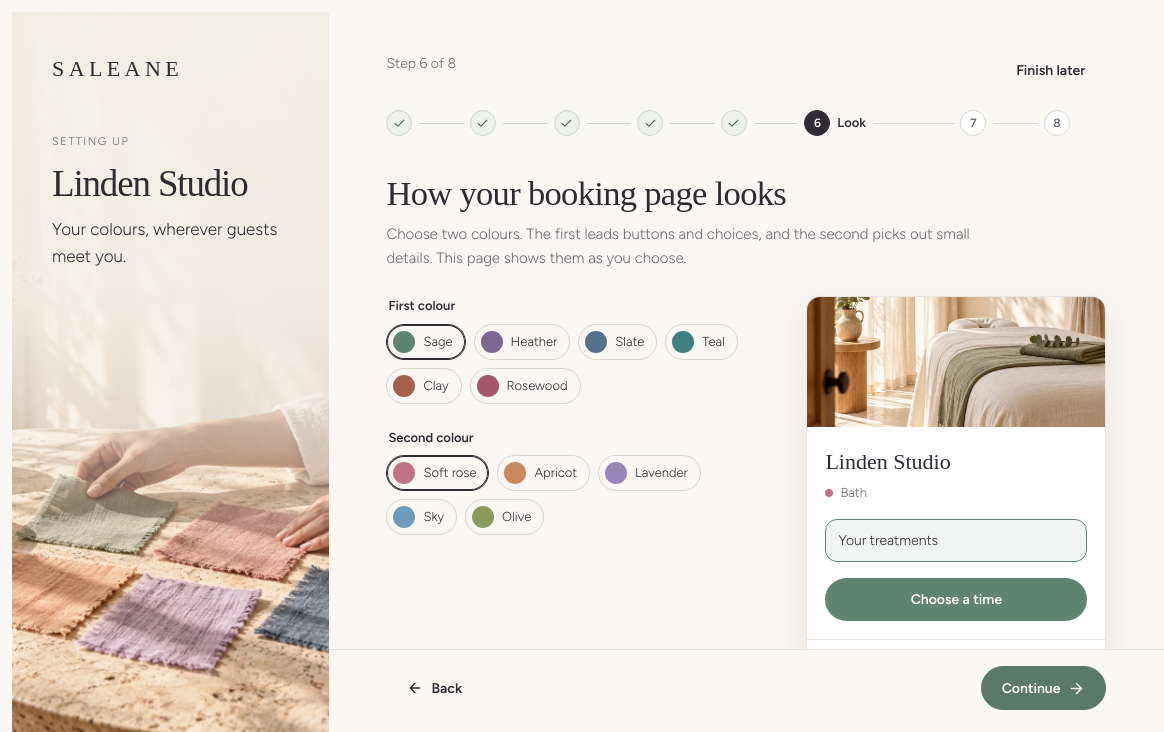
Set up your studio › picks up where the owner left off, and Back never loses a saved screen
Expected: the heading reads "How your booking page looks", [386, 174, 786, 212]
Expected: the text "Step 6 of 8" is shown, [386, 53, 456, 75]
Click the button "Back".
click(435, 688)  # box [386, 666, 483, 710]
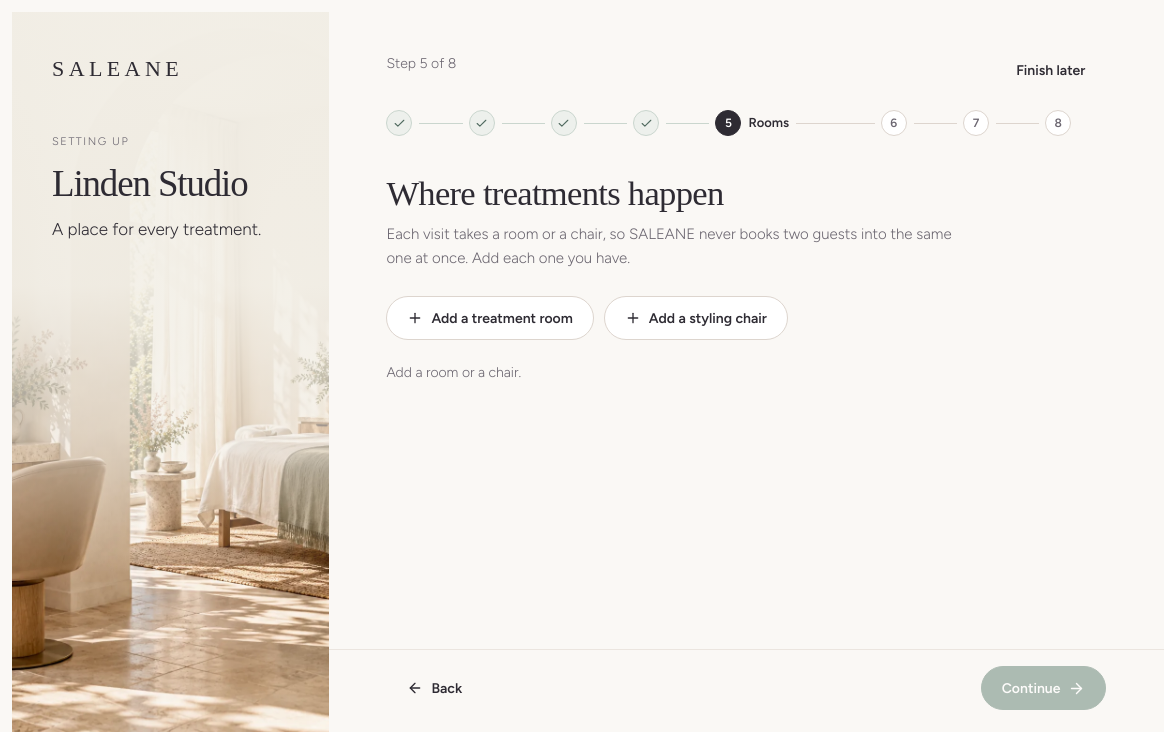
Now the heading reads "Where treatments happen", box [386, 174, 724, 212]
